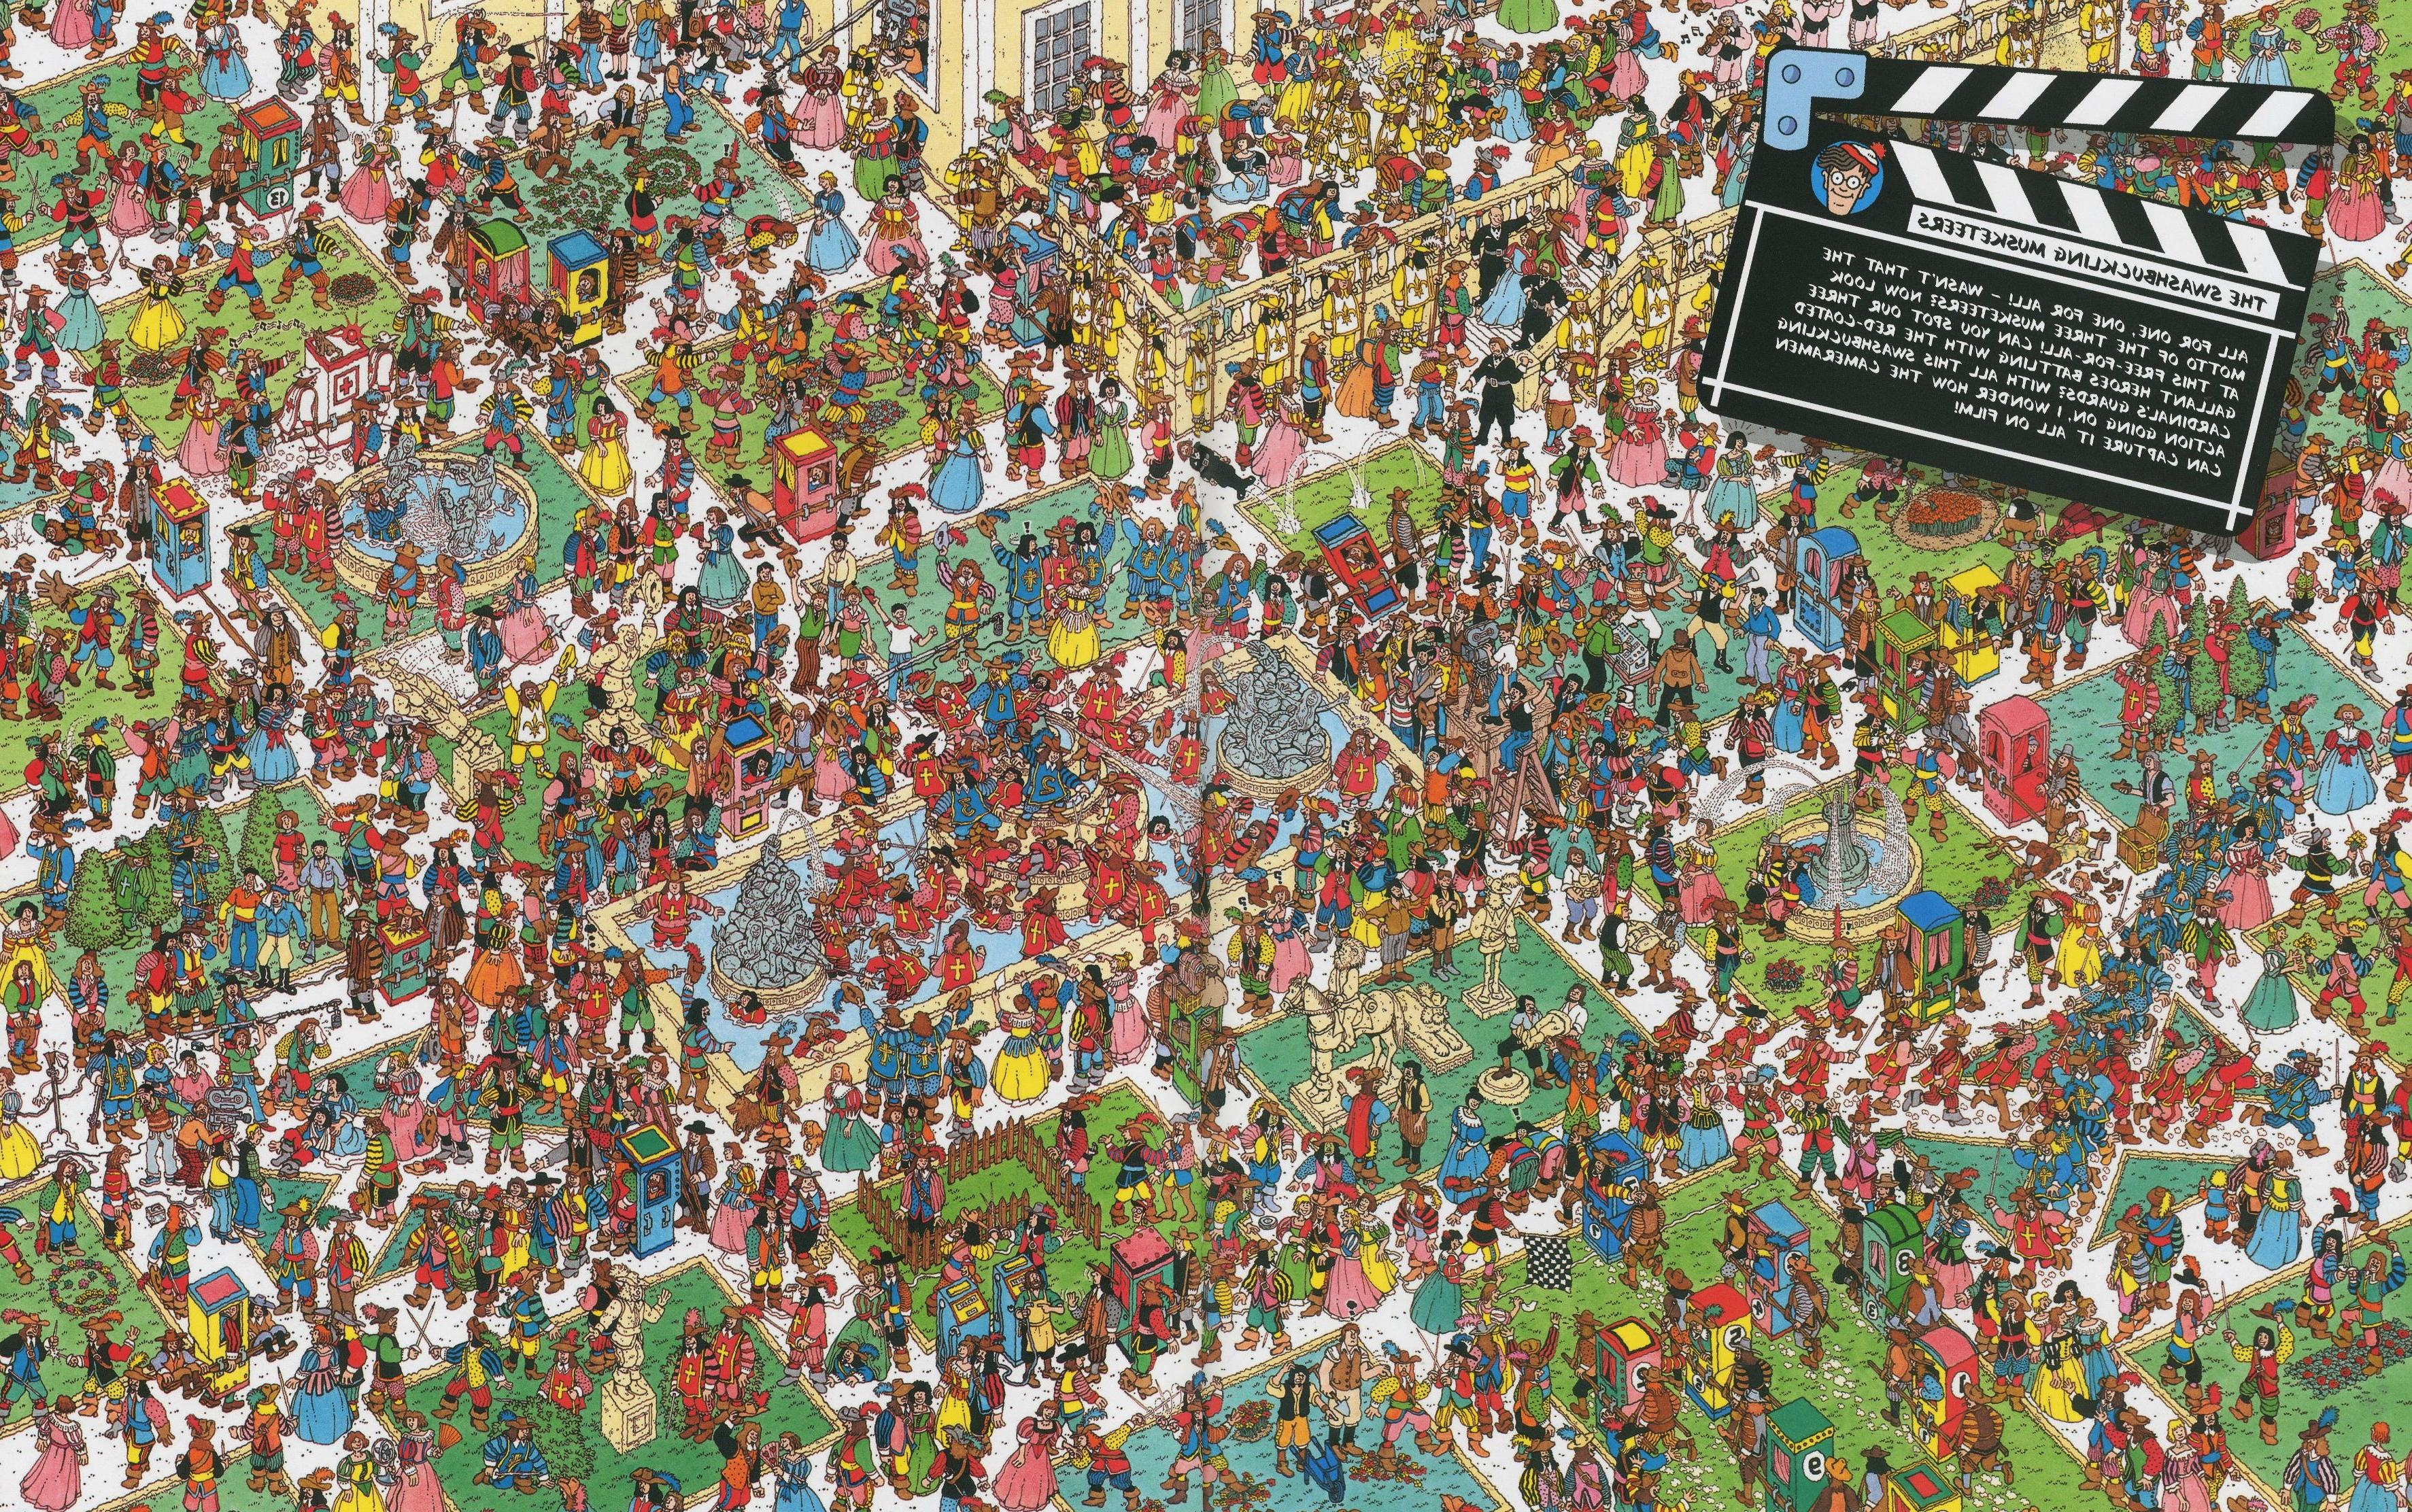waldos: (1129, 1195, 1155, 1235)
